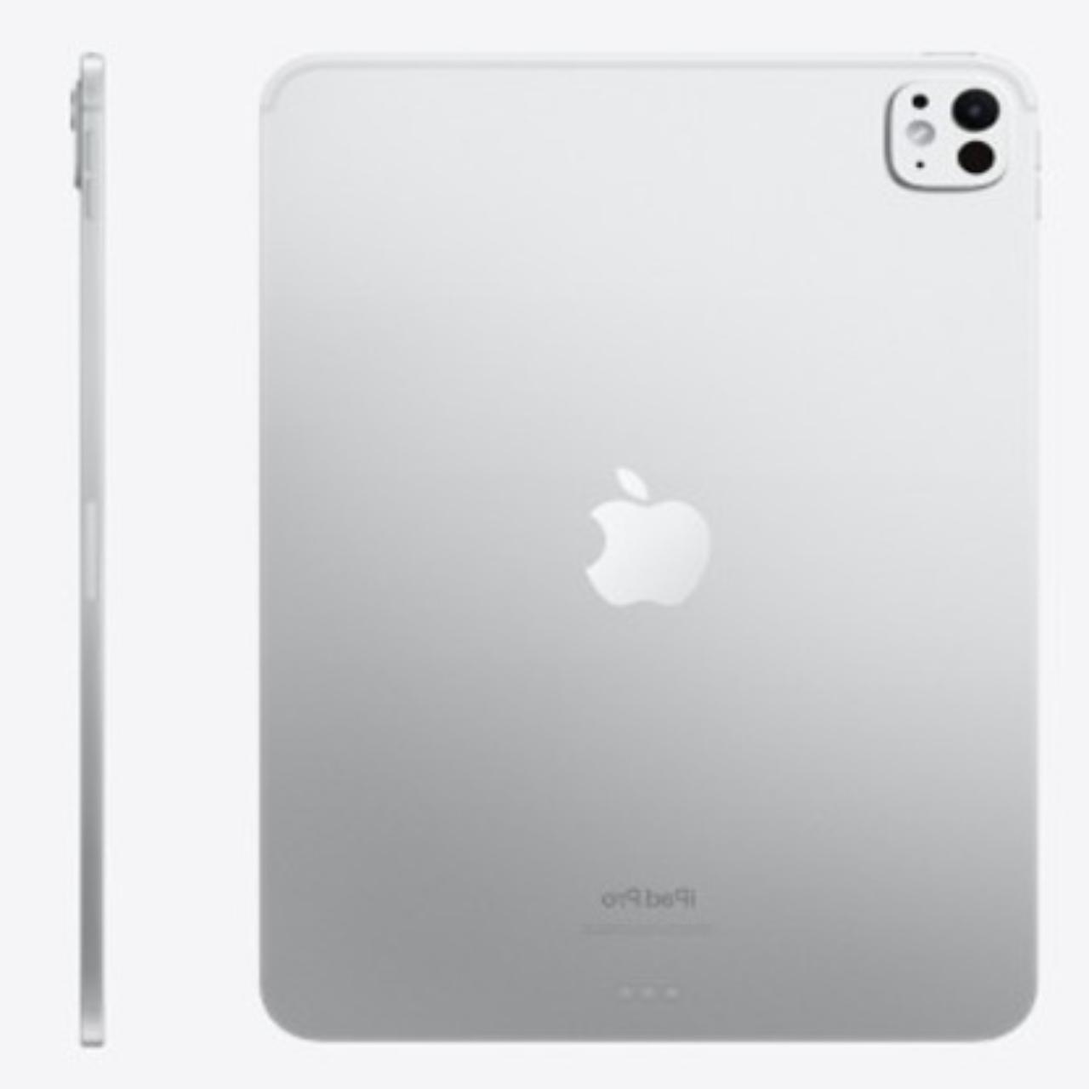Tablet_PC: (238, 40, 1052, 1063)
